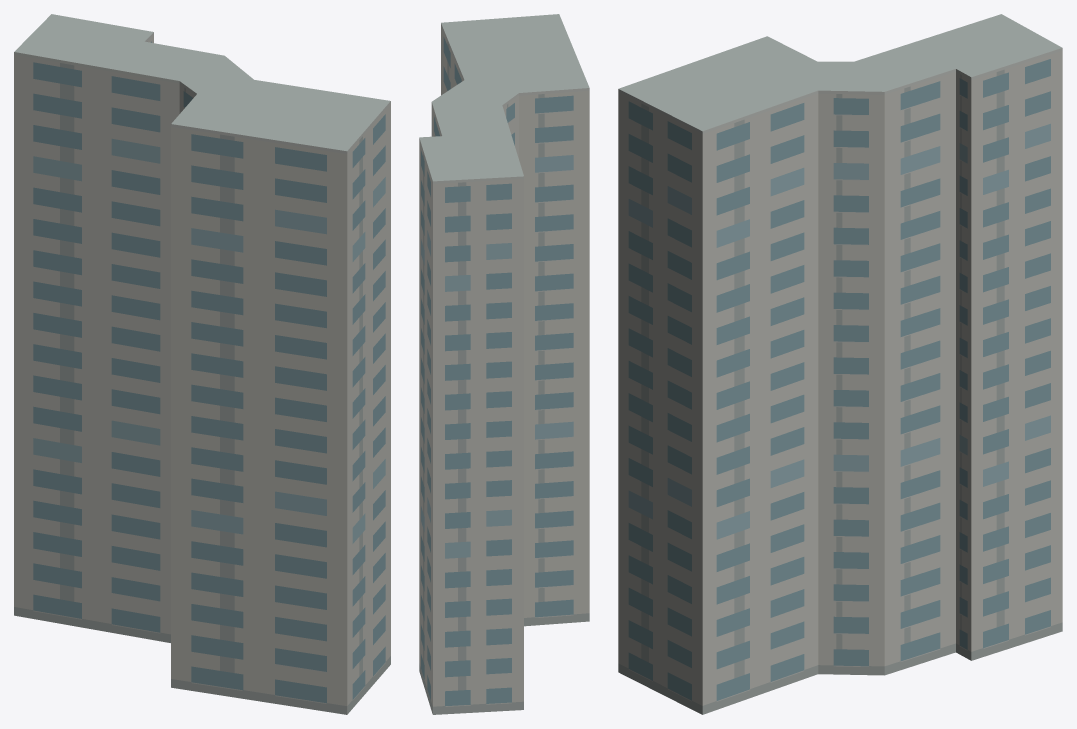
The model's file is residential-3c5625e5-95d4-4dd3-ac01-d5238fcbe9ad.glb.
3 views of the same model, side by side, from view 1: azimuth 30°, elevation 25°; view 2: azimuth 150°, elevation 25°; view 3: azimuth 270°, elevation 25° (orthographic). The views are drawn at different scales.
Visible parts, largest first — view 1: residential-3c5625e5-95d4-4dd3-ac01-d5238fcbe9ad.tmp; view 2: residential-3c5625e5-95d4-4dd3-ac01-d5238fcbe9ad.tmp; view 3: residential-3c5625e5-95d4-4dd3-ac01-d5238fcbe9ad.tmp.
Part boxes in pixels (x1,y1,x2,y2): residential-3c5625e5-95d4-4dd3-ac01-d5238fcbe9ad.tmp: [14, 14, 390, 714]; residential-3c5625e5-95d4-4dd3-ac01-d5238fcbe9ad.tmp: [419, 14, 589, 714]; residential-3c5625e5-95d4-4dd3-ac01-d5238fcbe9ad.tmp: [618, 14, 1062, 714].
Size of the model in its own units: 20.71 by 48 by 33.13.
